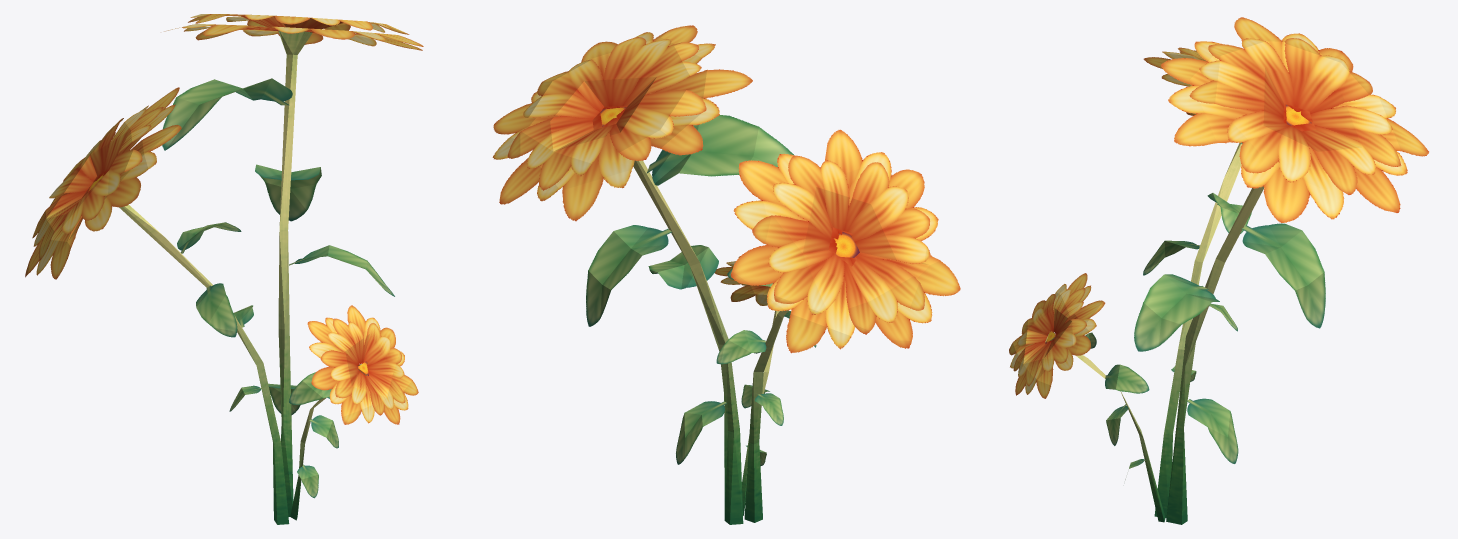
File: VEG0310030.fbx
The picture shows the model from 3 angles, left to right: view 1: azimuth 30°, elevation 25°; view 2: azimuth 150°, elevation 25°; view 3: azimuth 270°, elevation 25°; orthographic projection. The views are drawn at different scales.
Visible parts, largest first — view 1: smVEG0310030; view 2: smVEG0310030; view 3: smVEG0310030.
Part boxes in pixels (left/top/right/bottom): smVEG0310030: left=25, top=14, right=423, bottom=524; smVEG0310030: left=492, top=25, right=960, bottom=524; smVEG0310030: left=1009, top=17, right=1428, bottom=524.
Bounding box in the file's own units: 55.09 × 58.7 × 47.92.
1 material, 1 textured.
